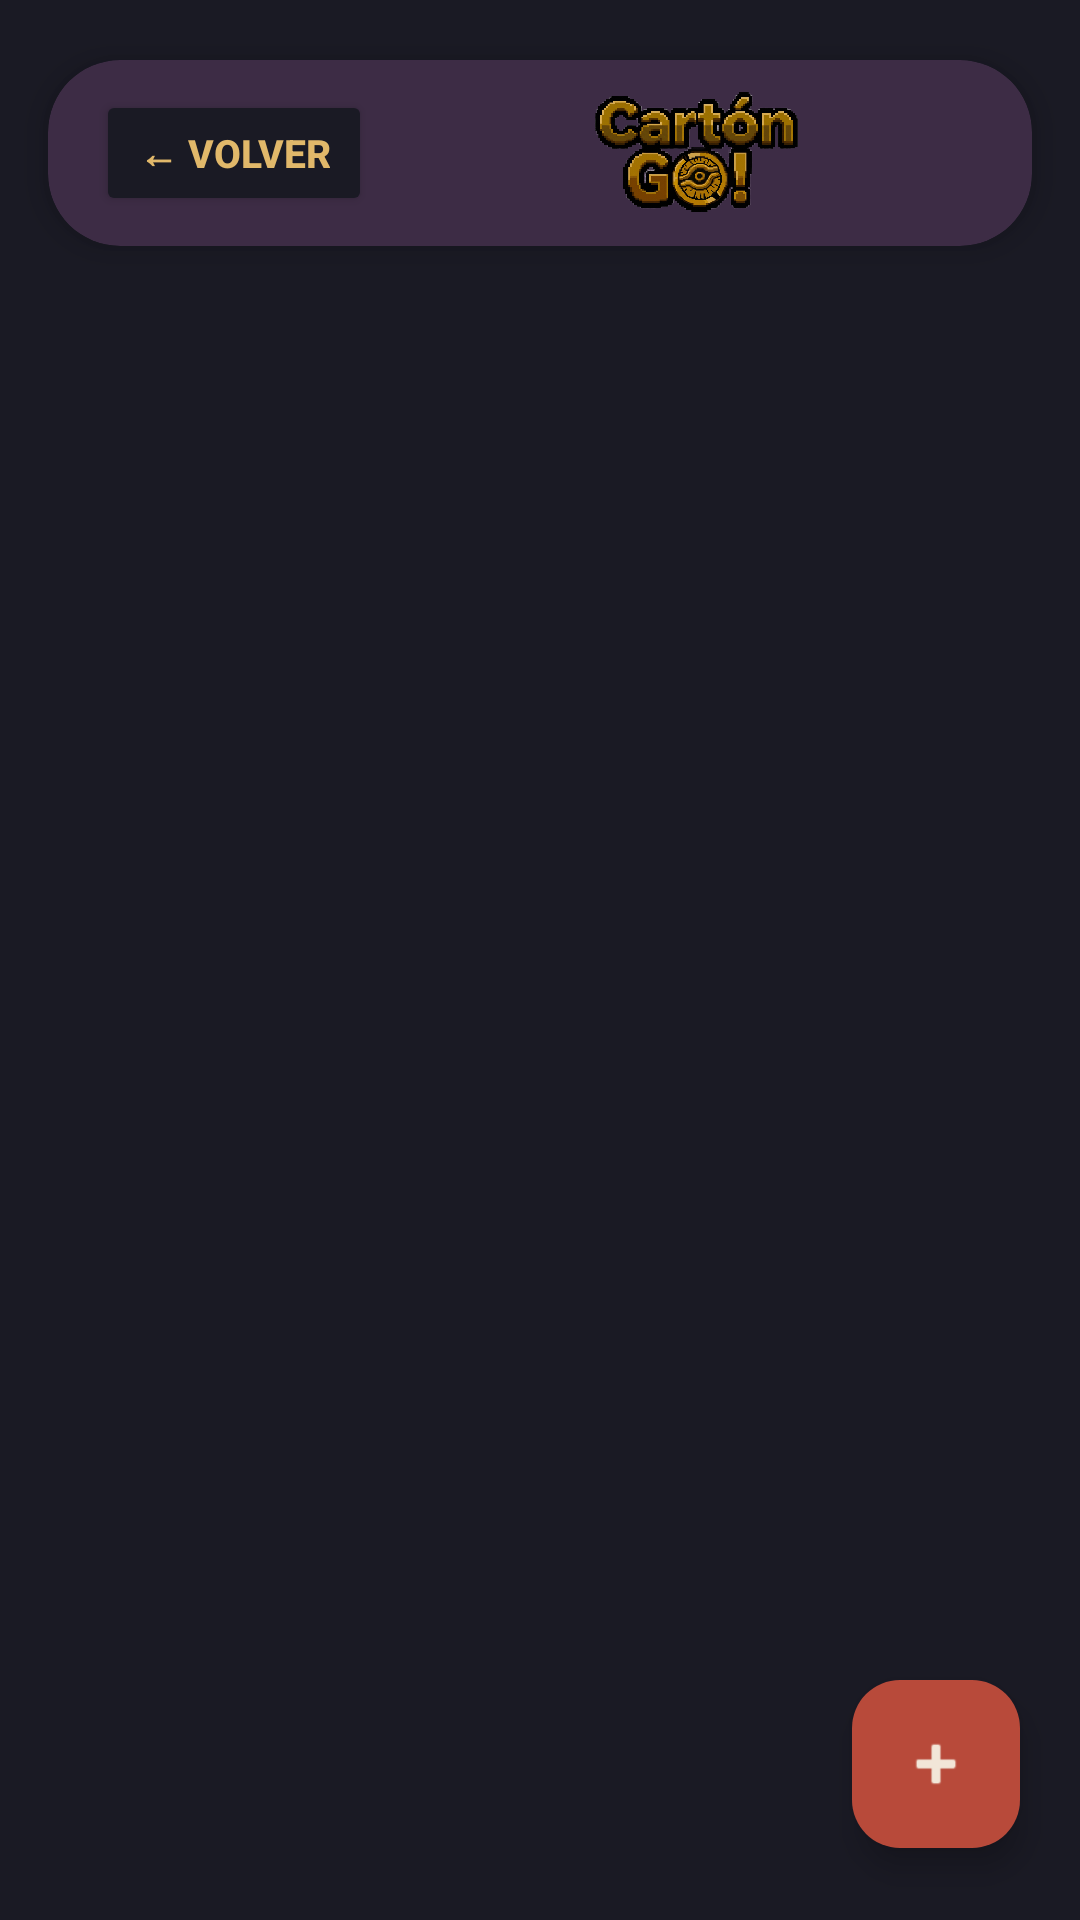

Named icons in this screenshot (1080×1920) and their bounding boxes, (x1=x1, y1=y1, x2=x2, y2=y2):
Nueva Publicación: (x1=852, y1=1680, x2=1020, y2=1848)
